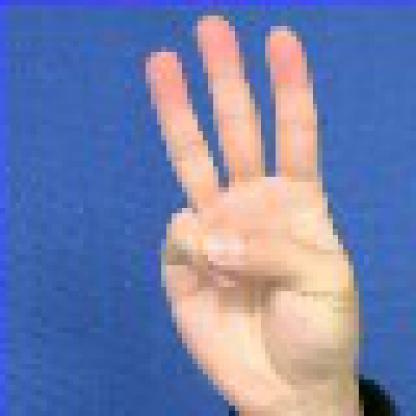three: (121, 18, 370, 415)
